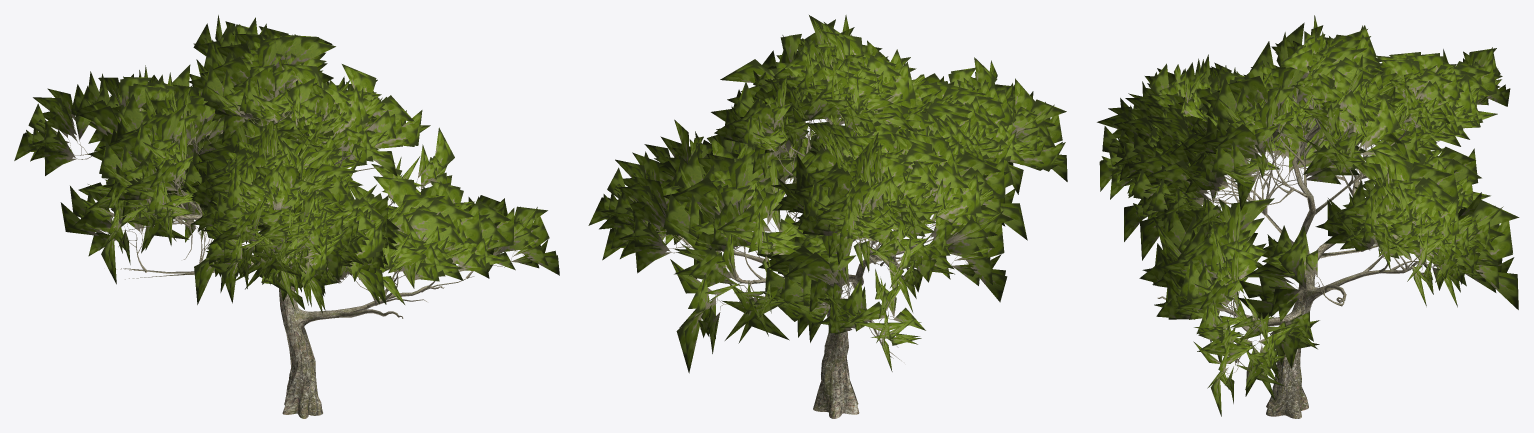
The model's file is oak6.obj.
3 views of the same model, side by side, from view 1: azimuth 30°, elevation 25°; view 2: azimuth 150°, elevation 25°; view 3: azimuth 270°, elevation 25° (orthographic). The views are drawn at different scales.
Parts seen in each view (by area): view 1: oak leaf, mossybark03; view 2: oak leaf, mossybark03; view 3: oak leaf, mossybark03.
Boxes of the visible parts, x1,y1,x2,y2 form: oak leaf: (14, 15, 559, 314); mossybark03: (67, 85, 516, 418); oak leaf: (588, 15, 1067, 373); mossybark03: (645, 111, 1013, 418); oak leaf: (1097, 15, 1519, 416); mossybark03: (1157, 92, 1484, 418).
Bounding box in the file's own units: 1072 × 906 × 935.
Materials: 2 (2 with a texture image).
